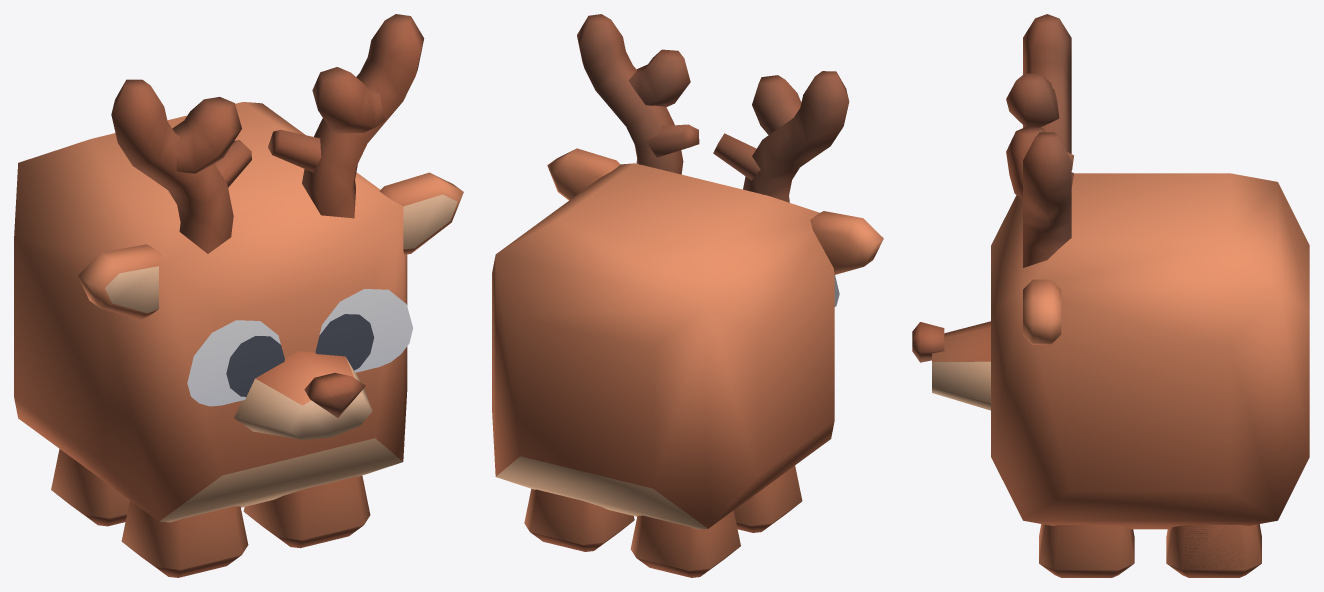
File: animal-deer.obj
3 views of the same model, side by side, from view 1: azimuth 30°, elevation 25°; view 2: azimuth 150°, elevation 25°; view 3: azimuth 270°, elevation 25° (orthographic). The views are drawn at different scales.
Parts seen in each view (by area): view 1: body, leg-front-right, leg-front-left, leg-back-right; view 2: body, leg-back-right, leg-back-left, leg-front-right; view 3: body, leg-front-left, leg-back-left.
Boxes of the visible parts, box(x1,y1,x2,y2) form: body: box(14, 14, 463, 522); leg-front-right: box(121, 500, 248, 577); leg-front-left: box(243, 475, 370, 548); leg-back-right: box(51, 449, 129, 526); body: box(492, 14, 883, 529); leg-back-right: box(630, 510, 740, 577); leg-back-left: box(524, 489, 634, 551); leg-front-right: box(734, 465, 802, 532); body: box(912, 14, 1309, 529); leg-front-left: box(1039, 524, 1134, 577); leg-back-left: box(1166, 524, 1261, 577).
Size of the model in its own units: 1.54 by 1.99 by 1.56.
